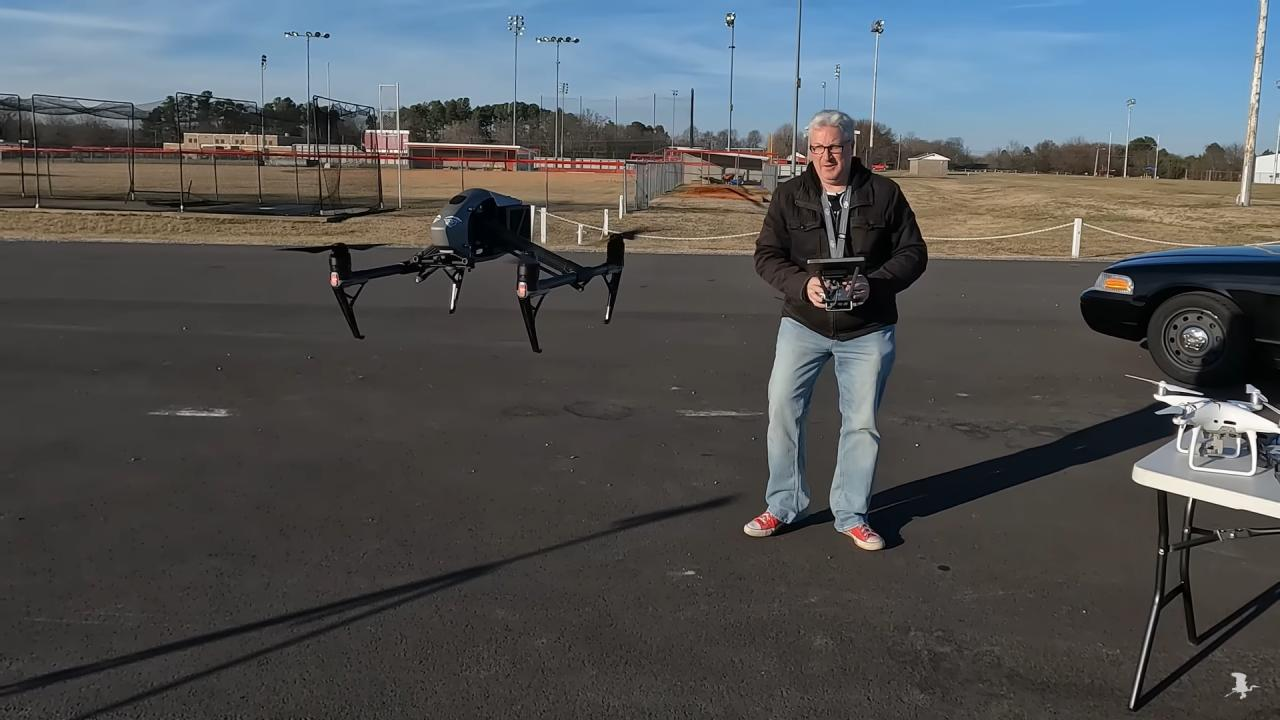Drone: (267, 172, 685, 362)
